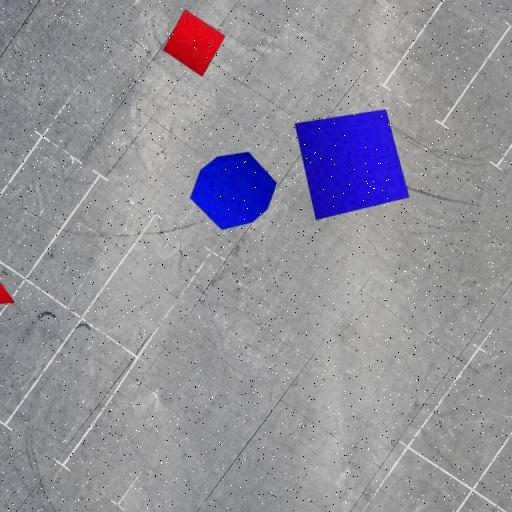BLUE_SQUARE: (294, 109, 410, 220)
RED_SQUARE: (162, 8, 226, 78)
